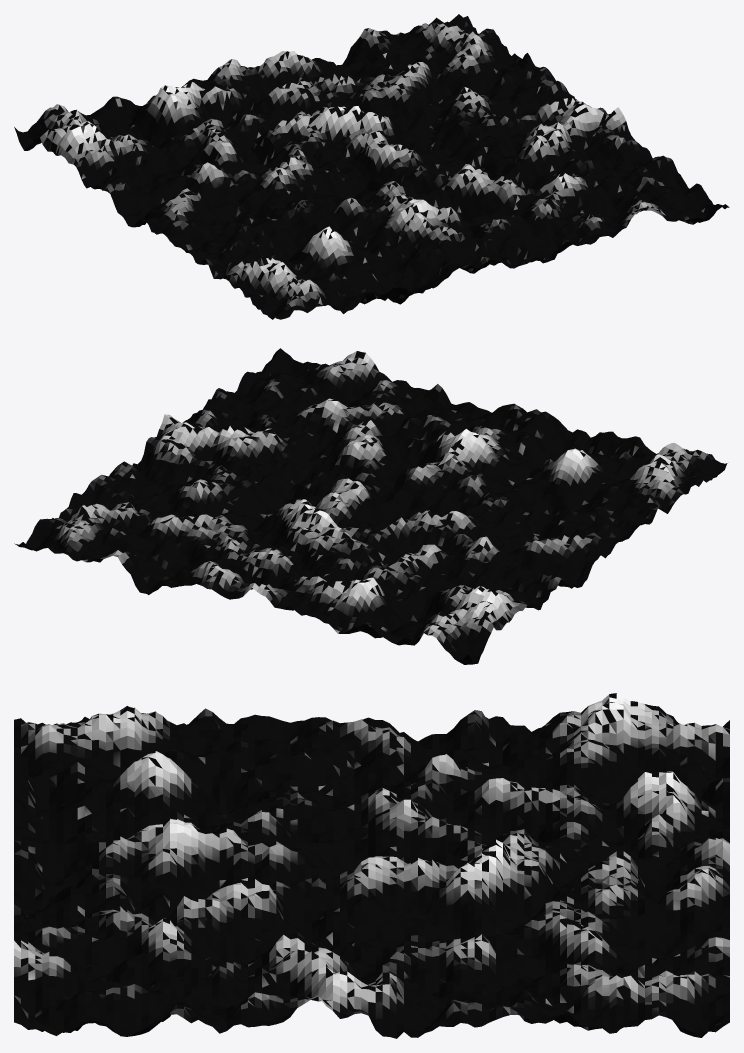
The picture shows the model from 3 angles, top to bottom: view 1: azimuth 30°, elevation 25°; view 2: azimuth 150°, elevation 25°; view 3: azimuth 270°, elevation 25°; orthographic projection. The views are drawn at different scales.
Visible parts, largest first — view 1: Plane; view 2: Plane; view 3: Plane.
Boxes of the visible parts, box(x1,y1,x2,y2) form: Plane: box(14, 14, 729, 319); Plane: box(14, 348, 727, 664); Plane: box(14, 693, 729, 1038).
Bounding box in the file's own units: 2 × 0.2326 × 2.
1 material, 1 textured.
